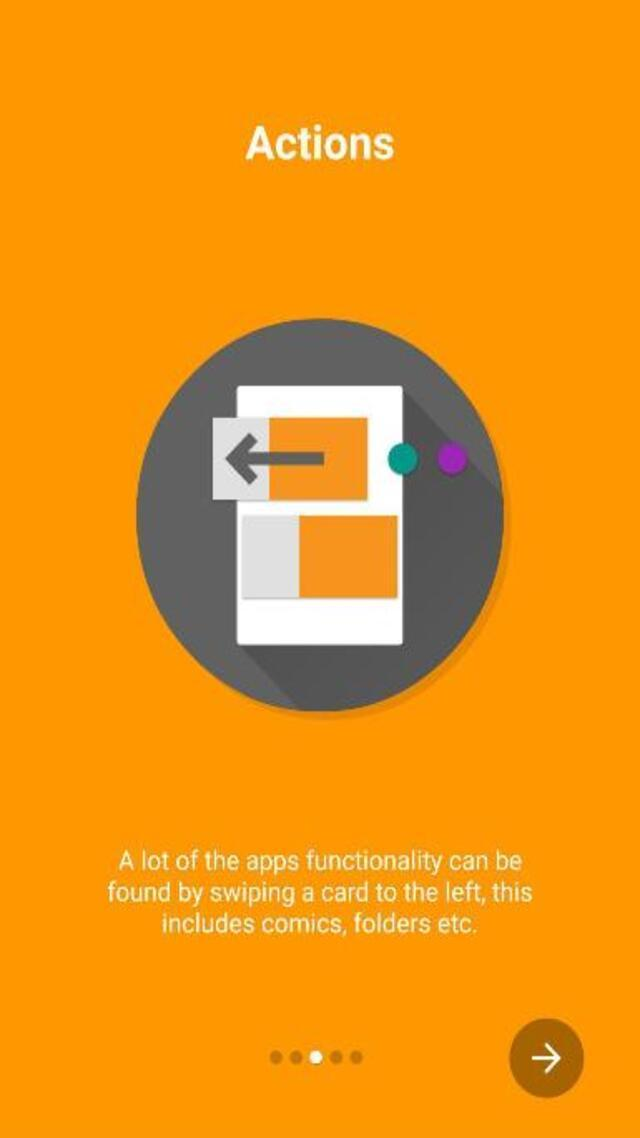Icon: (510, 1017, 584, 1099)
Image: (138, 319, 504, 712)
Text: (102, 877, 538, 907), (154, 907, 482, 938), (116, 849, 527, 873), (245, 125, 393, 160)
